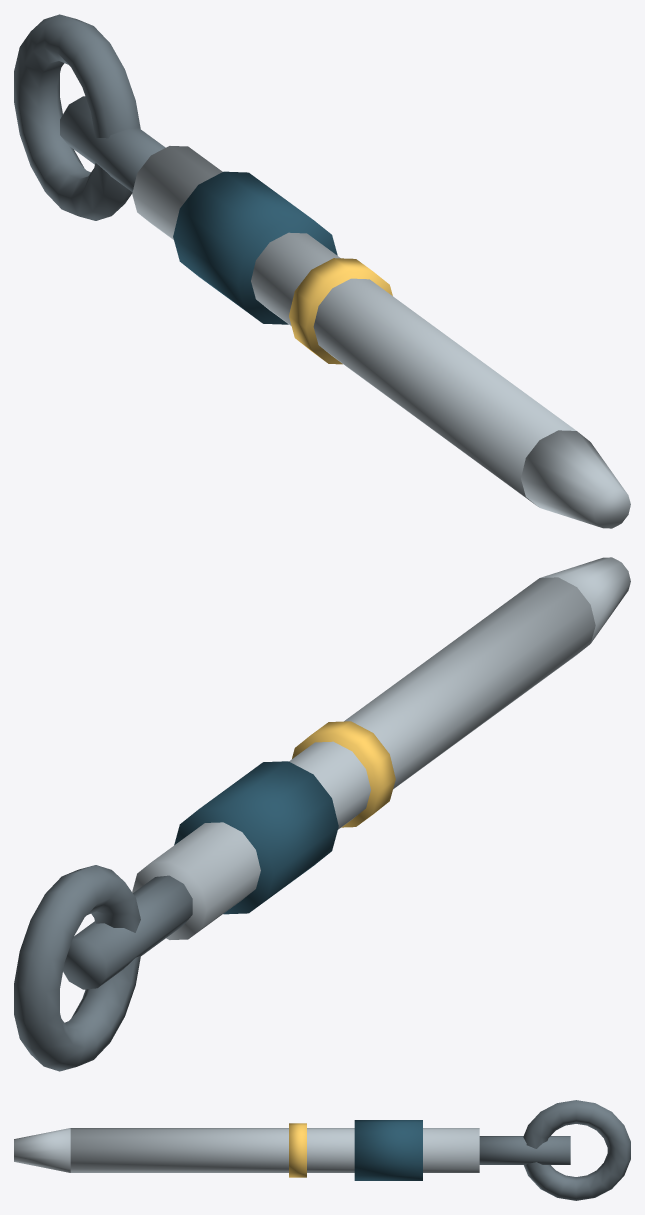
Rendered from ai-gun.glb.
The picture shows the model from 3 angles, top to bottom: view 1: azimuth 30°, elevation 25°; view 2: azimuth 150°, elevation 25°; view 3: azimuth 270°, elevation 25°; orthographic projection. The views are drawn at different scales.
Visible parts, largest first — view 1: ai-gun; view 2: ai-gun; view 3: ai-gun.
Boxes of the visible parts, bbox=[...] form: ai-gun: bbox=[14, 14, 630, 528]; ai-gun: bbox=[14, 557, 630, 1071]; ai-gun: bbox=[14, 1100, 630, 1200].
Bounding box in the file's own units: 0.054 × 0.098 × 0.5433.
